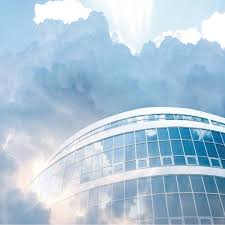sky: (2, 1, 222, 111)
